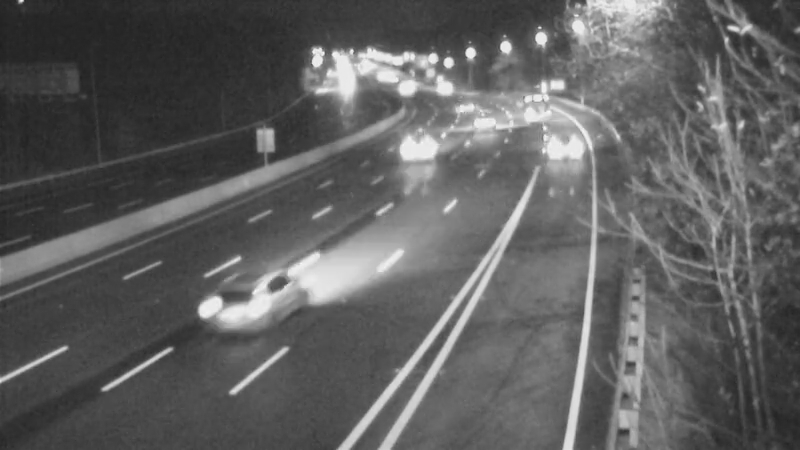vehicle: (175, 252, 285, 362), (524, 111, 604, 191), (417, 60, 467, 110), (384, 68, 434, 118), (436, 75, 486, 125), (509, 86, 559, 136), (463, 101, 513, 151), (392, 120, 442, 170)
